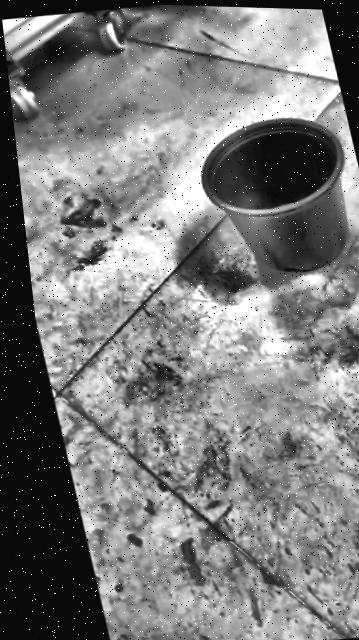pot: (188, 110, 359, 282)
